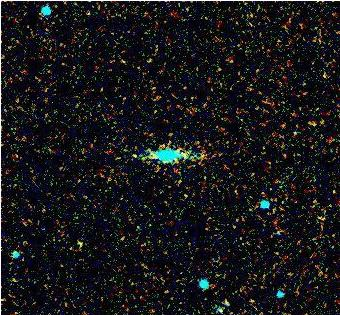star: (118, 139, 148, 169)
